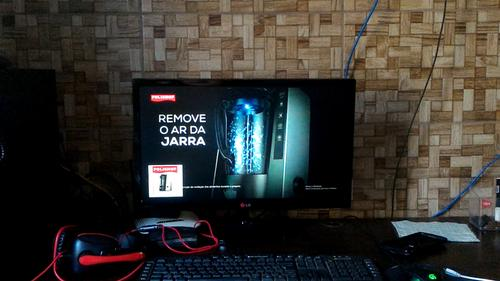Polishop #1: (147, 162, 181, 196)
